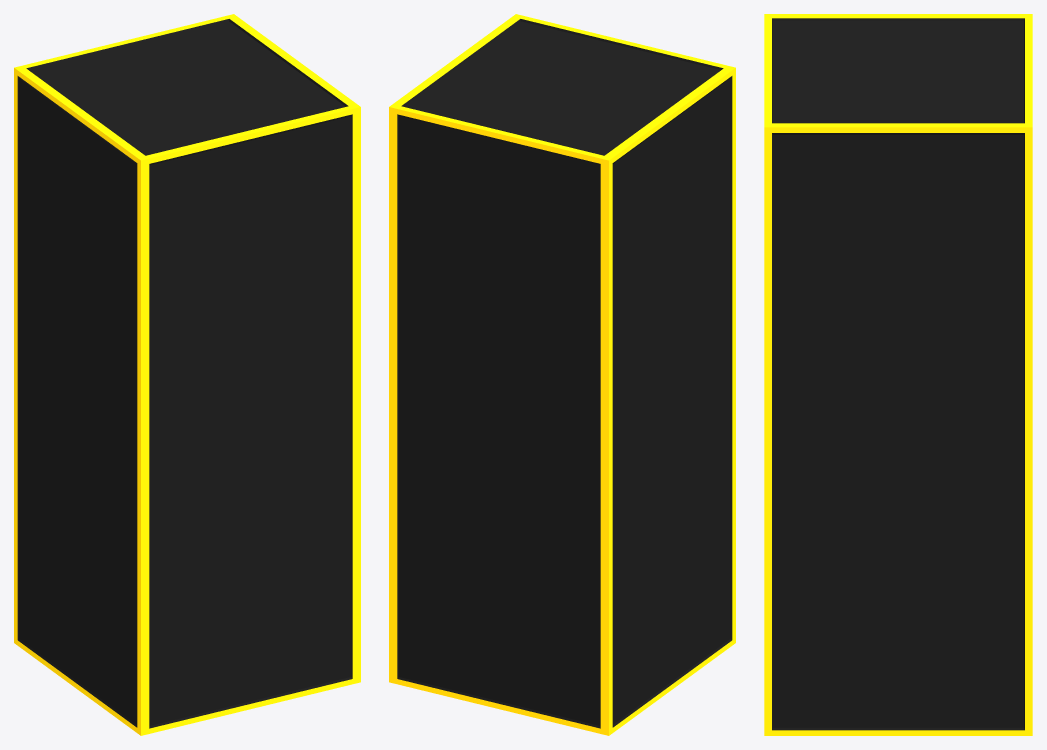
The picture shows the model from 3 angles, left to right: view 1: azimuth 30°, elevation 25°; view 2: azimuth 150°, elevation 25°; view 3: azimuth 270°, elevation 25°; orthographic projection. The views are drawn at different scales.
Visible parts, largest first — view 1: Cube; view 2: Cube; view 3: Cube.
Boxes of the visible parts, x1=… form: Cube: x1=14, y1=14, x2=360, y2=735; Cube: x1=389, y1=14, x2=735, y2=735; Cube: x1=764, y1=14, x2=1032, y2=735.
Bounding box in the file's own units: 0.2 × 0.5 × 0.2.
